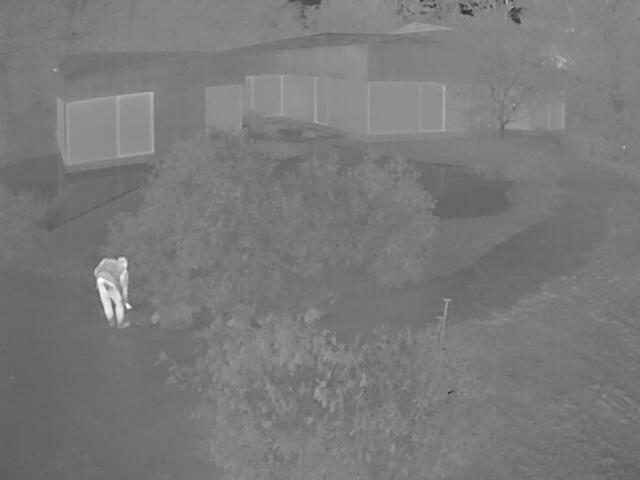person: (92, 253, 129, 331)
